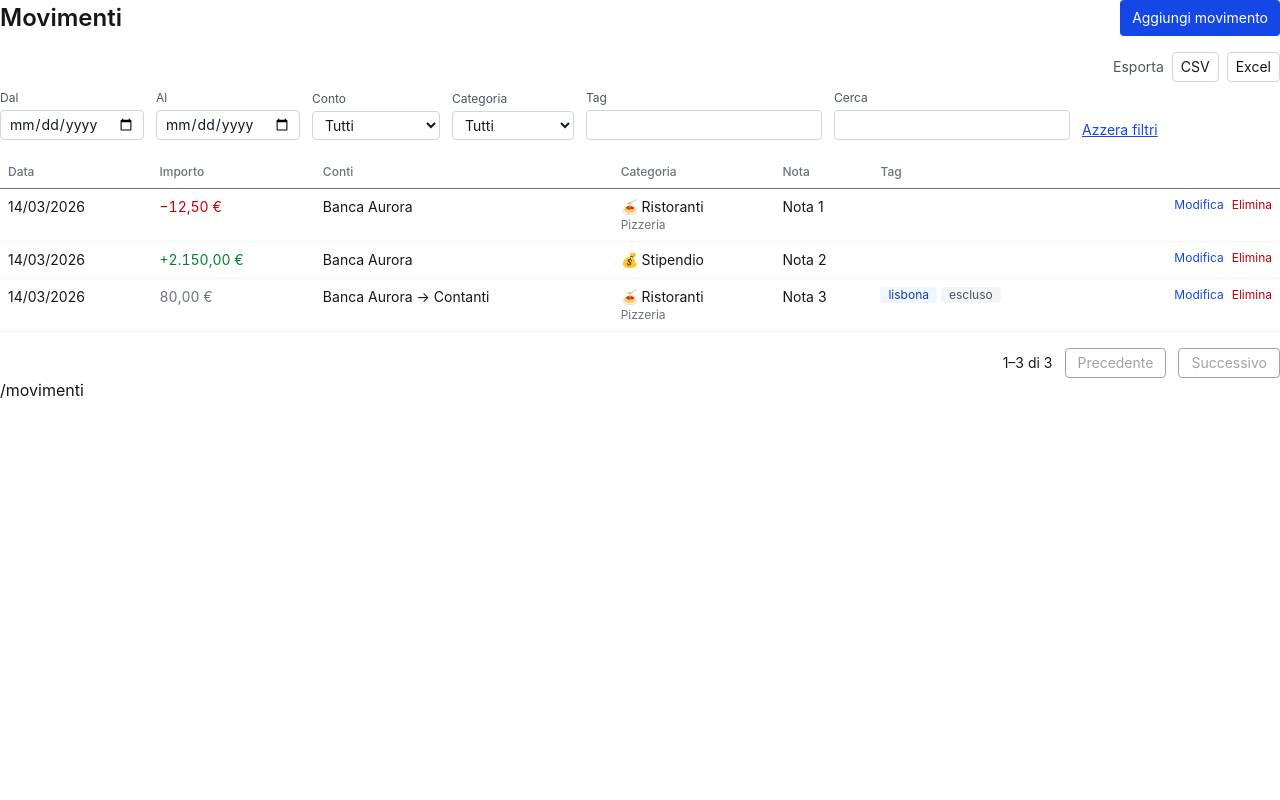
Test case: changing the ledger › explains why an adjustment line cannot be deleted
Click the button "Elimina" in the row of "−12,50 €" at [1252, 205], box [1232, 197, 1272, 213]
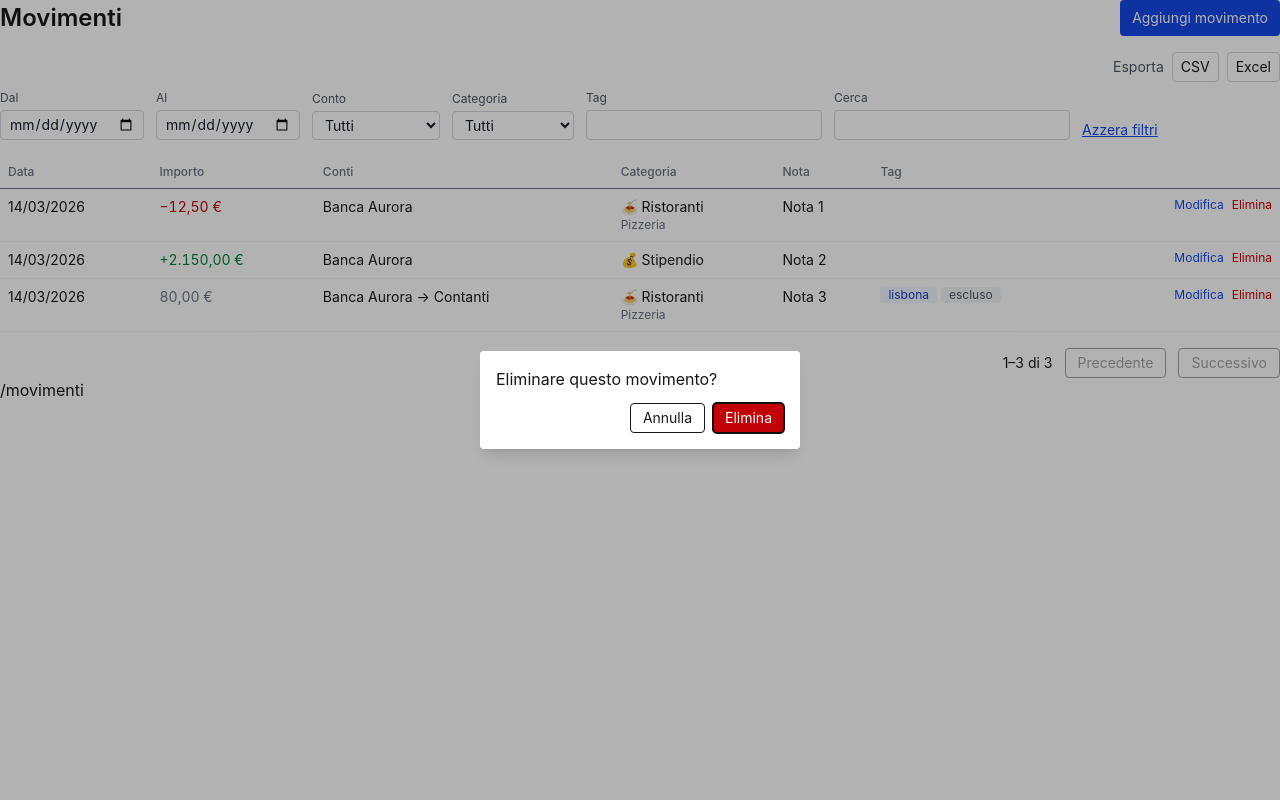
Click the button "Elimina" at [748, 418], box [713, 403, 784, 433]
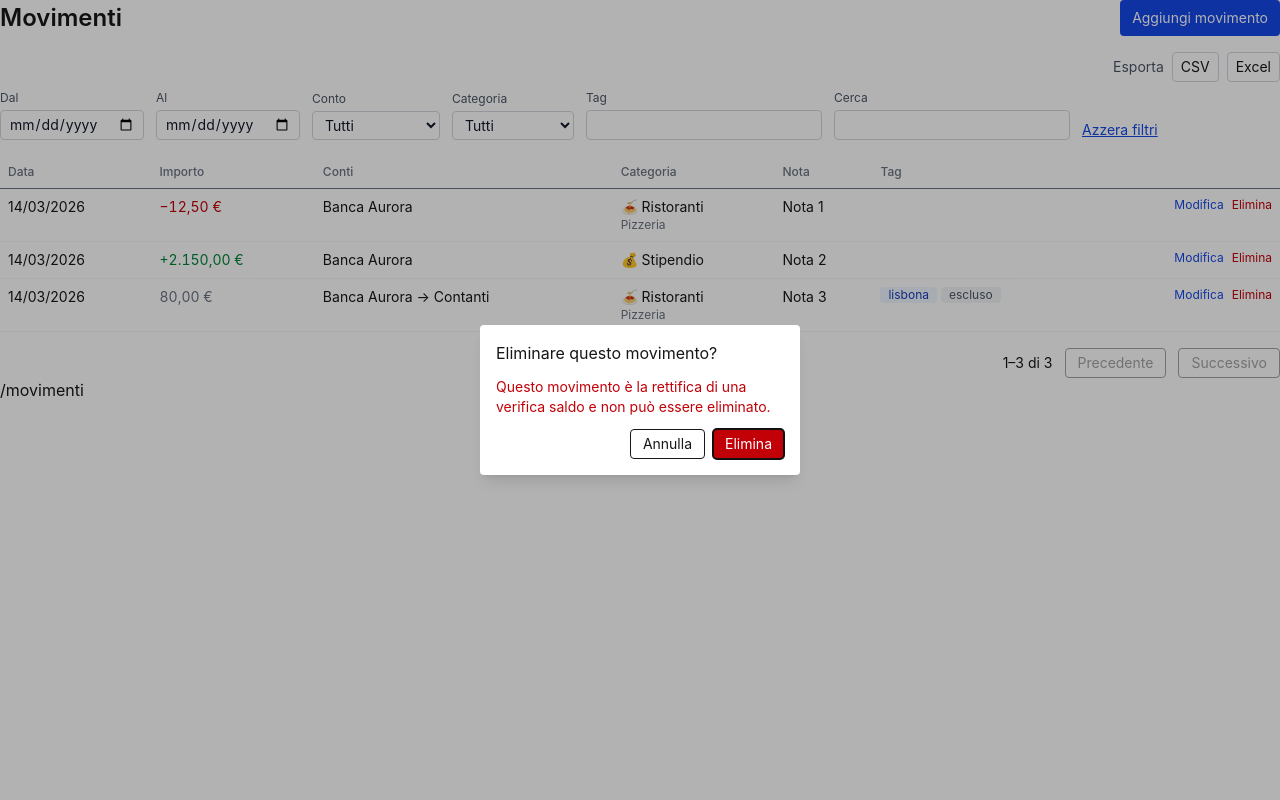
Check: the text "rettifica di una verifica saldo" is shown, box [496, 378, 771, 415]
